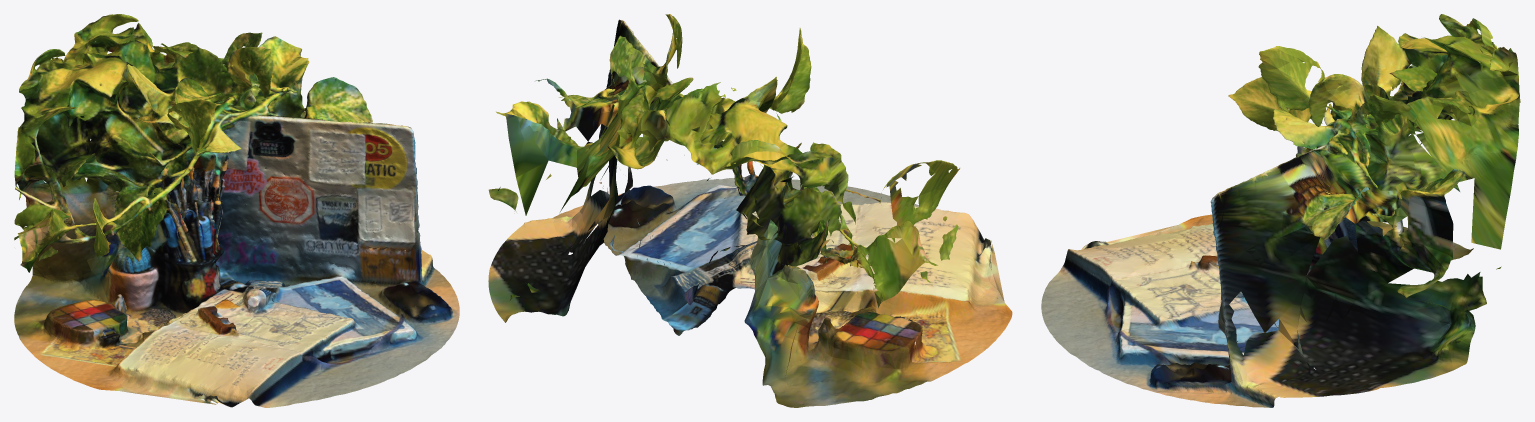
Rendered from Scaniverse 2026-09-30 150840-optimized.glb.
3 renders of one model, left to right at view 1: azimuth 30°, elevation 25°; view 2: azimuth 150°, elevation 25°; view 3: azimuth 270°, elevation 25°, orthographic. The views are drawn at different scales.
Parts seen in each view (by area): view 1: mesh; view 2: mesh; view 3: mesh.
Part boxes in pixels (x1,y1,x2,y2): mesh: (14, 14, 459, 407); mesh: (488, 14, 1012, 407); mesh: (1041, 14, 1520, 407).
Size of the model in its own units: 0.5708 by 0.3467 by 0.5713.
Materials: 1 (1 with a texture image).
